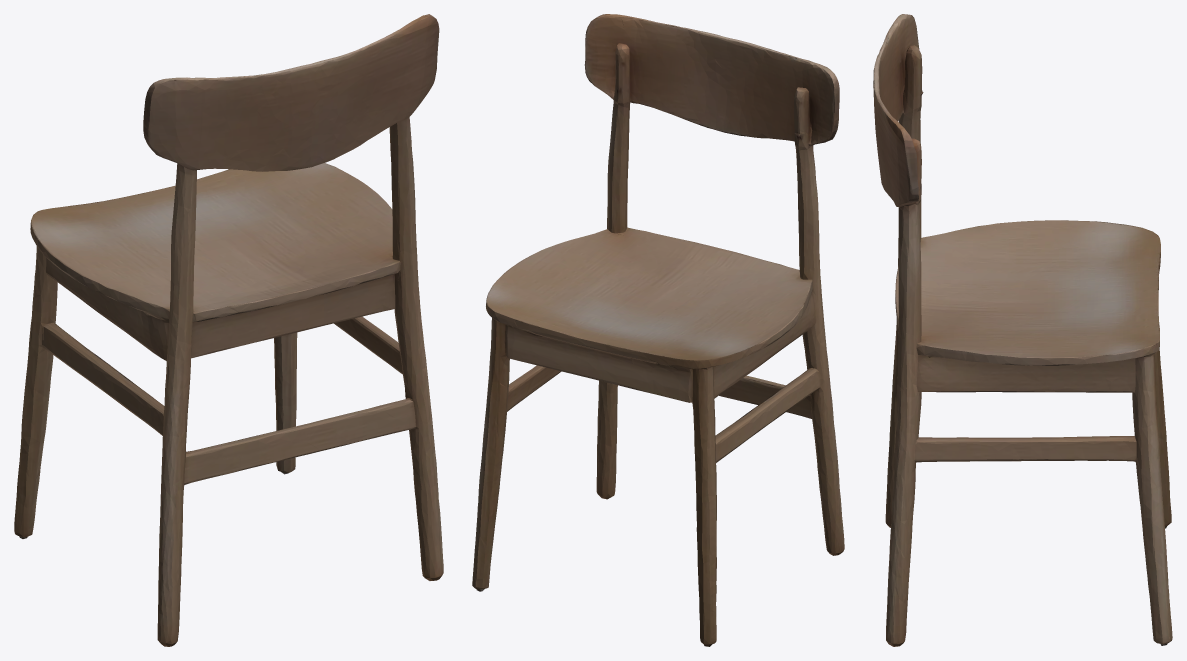
Rendered from ast_717c98fe0e21.glb.
3 renders of one model, left to right at view 1: azimuth 30°, elevation 25°; view 2: azimuth 150°, elevation 25°; view 3: azimuth 270°, elevation 25°, orthographic. The views are drawn at different scales.
Parts seen in each view (by area): view 1: geometry_0; view 2: geometry_0; view 3: geometry_0.
Part boxes in pixels (x1=…): geometry_0: x1=14, y1=14, x2=443, y2=646; geometry_0: x1=472, y1=14, x2=844, y2=646; geometry_0: x1=873, y1=14, x2=1172, y2=646.
Bounding box in the file's own units: 0.5712 × 0.9943 × 0.5227.
Materials: 1 (1 with a texture image).
